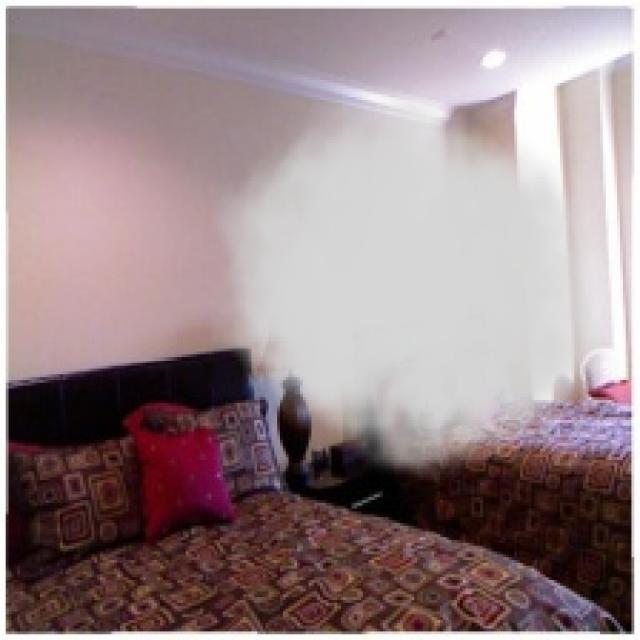smoke: (211, 77, 623, 492)
